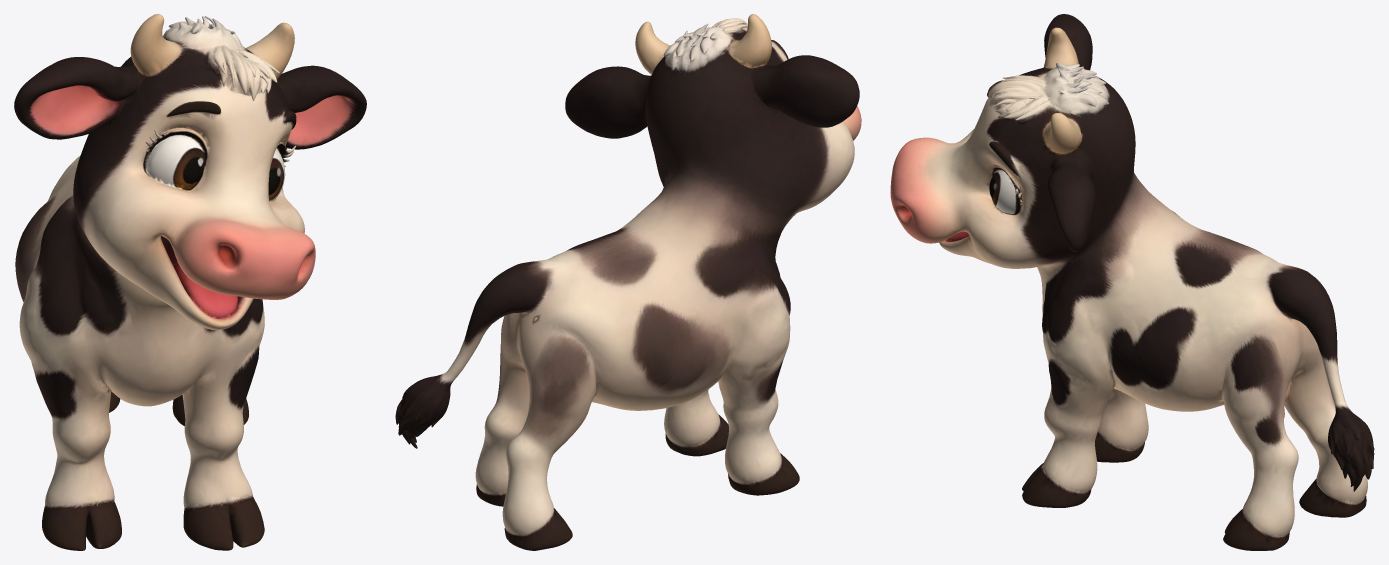
Rendered from cow.glb.
3 views of the same model, side by side, from view 1: azimuth 30°, elevation 25°; view 2: azimuth 150°, elevation 25°; view 3: azimuth 270°, elevation 25° (orthographic). The views are drawn at different scales.
Visible parts, largest first — view 1: tripo_node_cf6d88ae-67ba-4f61-a9d5-64e3bc903d39; view 2: tripo_node_cf6d88ae-67ba-4f61-a9d5-64e3bc903d39; view 3: tripo_node_cf6d88ae-67ba-4f61-a9d5-64e3bc903d39.
Boxes of the visible parts, x1,y1,x2,y2 form: tripo_node_cf6d88ae-67ba-4f61-a9d5-64e3bc903d39: [14, 14, 366, 550]; tripo_node_cf6d88ae-67ba-4f61-a9d5-64e3bc903d39: [395, 14, 861, 550]; tripo_node_cf6d88ae-67ba-4f61-a9d5-64e3bc903d39: [890, 14, 1374, 550].
Size of the model in its own units: 0.7498 by 1 by 0.9904.
Materials: 1 (1 with a texture image).
